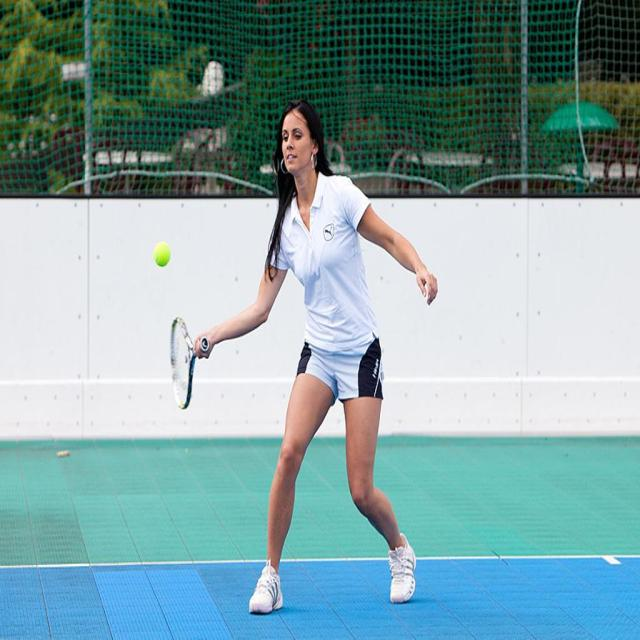Face: (283, 106, 313, 179)
